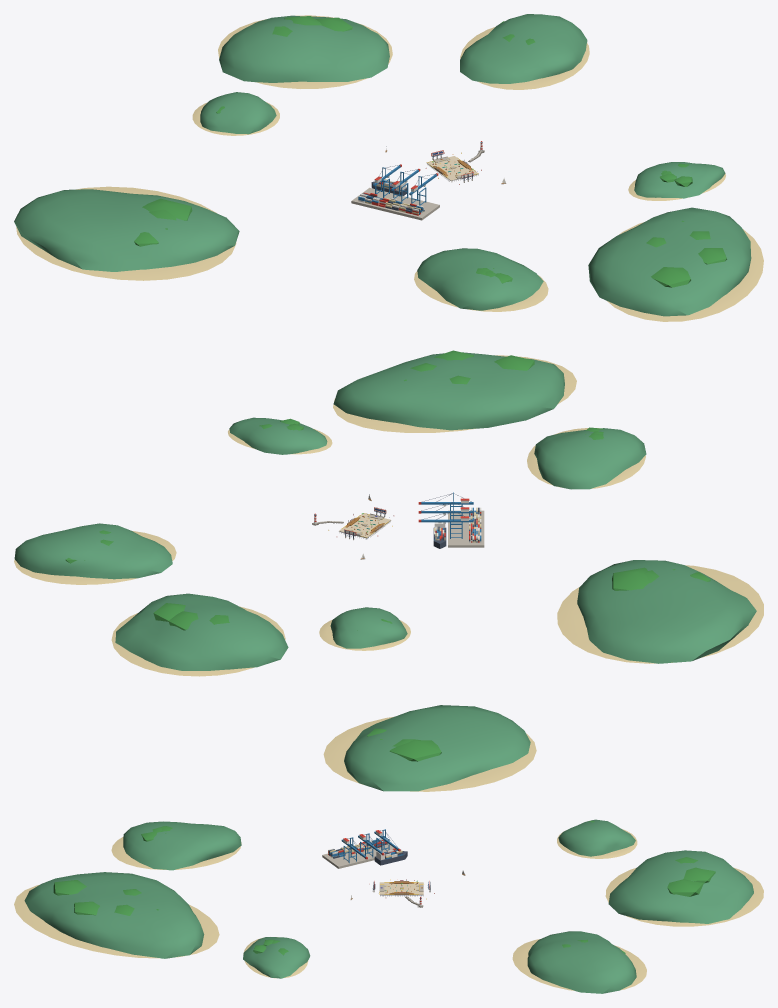
The model's file is map_pier18.glb.
The picture shows the model from 3 angles, top to bottom: view 1: azimuth 30°, elevation 25°; view 2: azimuth 150°, elevation 25°; view 3: azimuth 270°, elevation 25°; orthographic projection. The views are drawn at different scales.
Parts seen in each view (by area): view 1: deco_islands, deco_cranes; view 2: deco_islands, deco_cranes; view 3: deco_islands, deco_cranes.
Boxes of the visible parts, box(x1,y1,x2,y2) form: deco_islands: box(14, 14, 763, 321); deco_cranes: box(351, 164, 439, 220); deco_islands: box(14, 350, 763, 676); deco_cranes: box(418, 492, 484, 548); deco_islands: box(14, 705, 763, 993); deco_cranes: box(322, 829, 407, 868).
Size of the model in its own units: 1266 by 57.11 by 1430.
